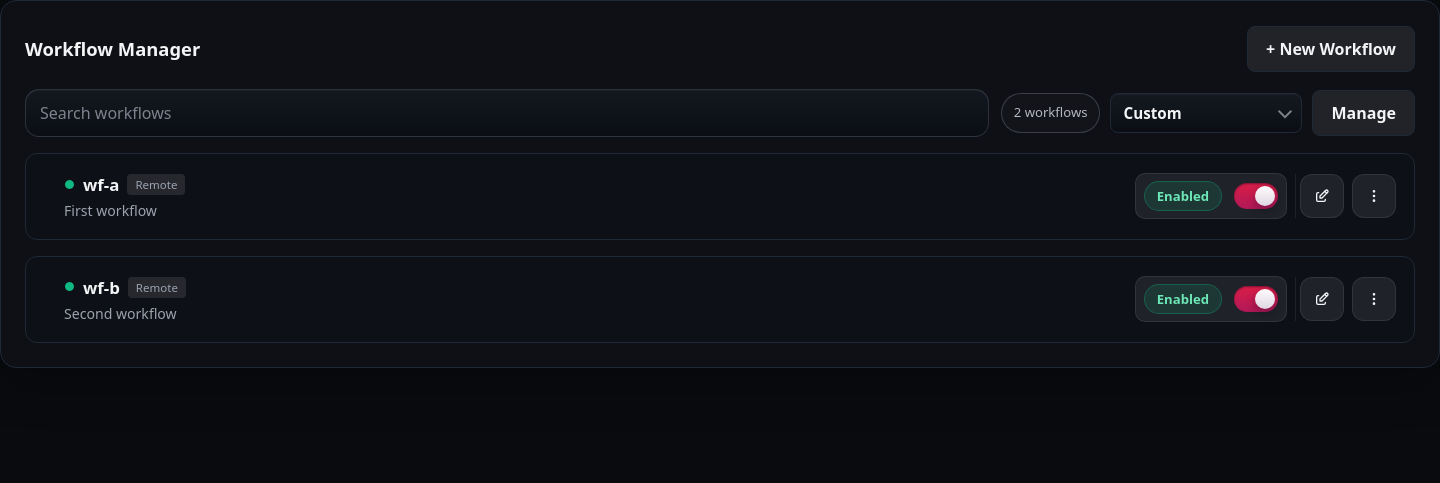
Test case: WorkflowManager › exits batch mode and clears the current selection
Step 1. Click the button "Manage" → {"x": 1364, "y": 113}, box [1312,90,1415,136]
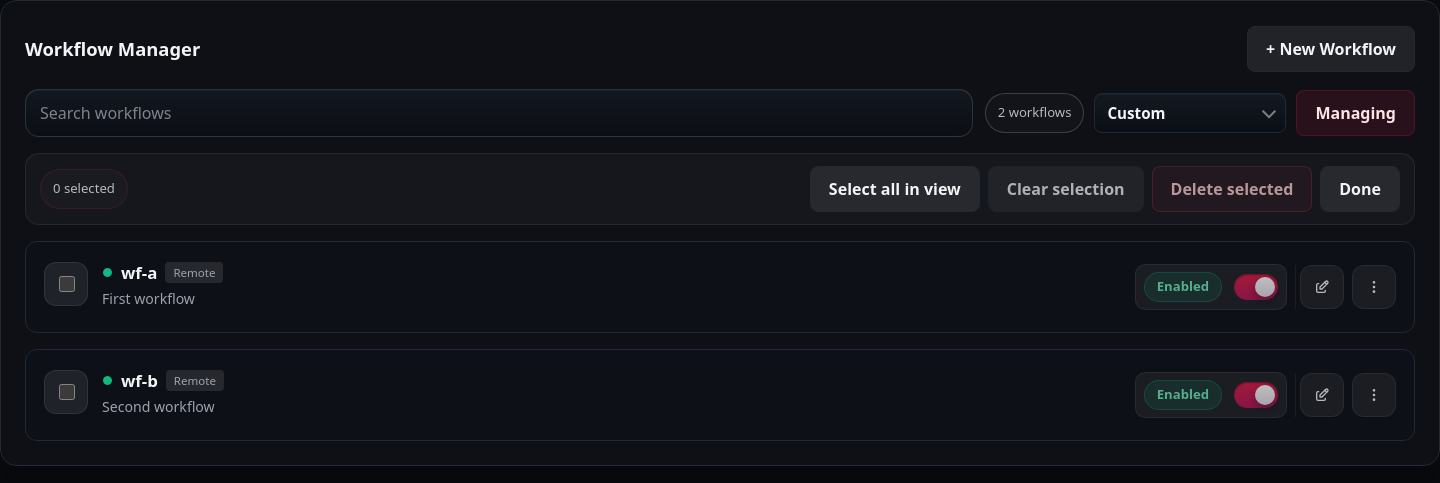
Step 2. Click the checkbox named "Select workflow wf-a" → {"x": 66, "y": 284}, box [58,276,74,292]
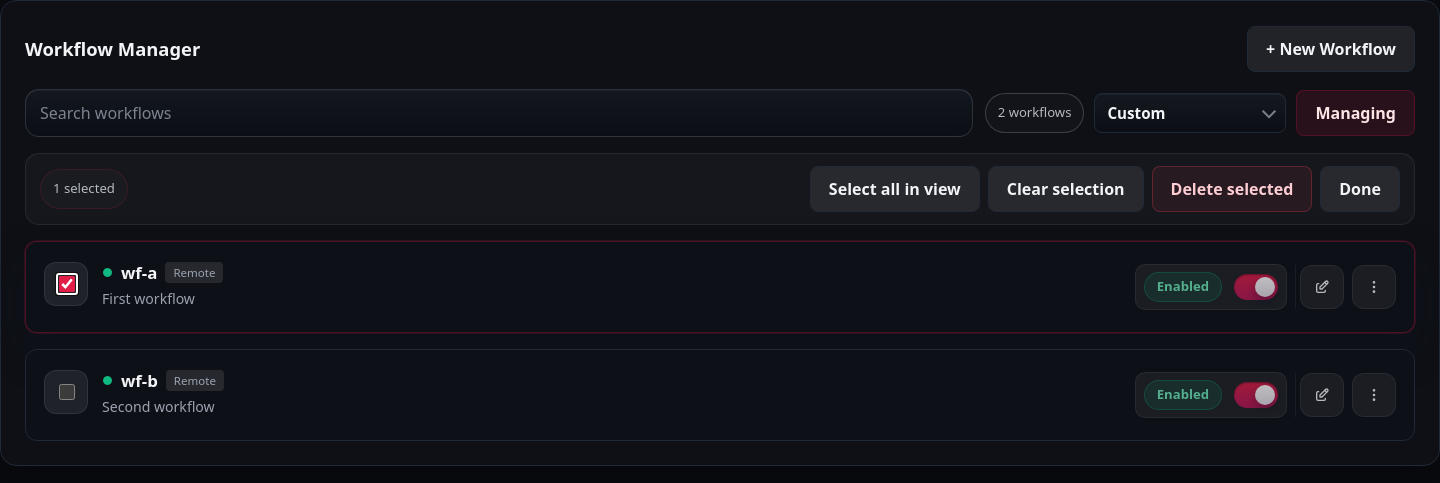
Now the text "1 selected" is shown, box [40,169,128,209]
Step 3. Click the button "Done" → {"x": 1360, "y": 189}, box [1320,166,1400,212]
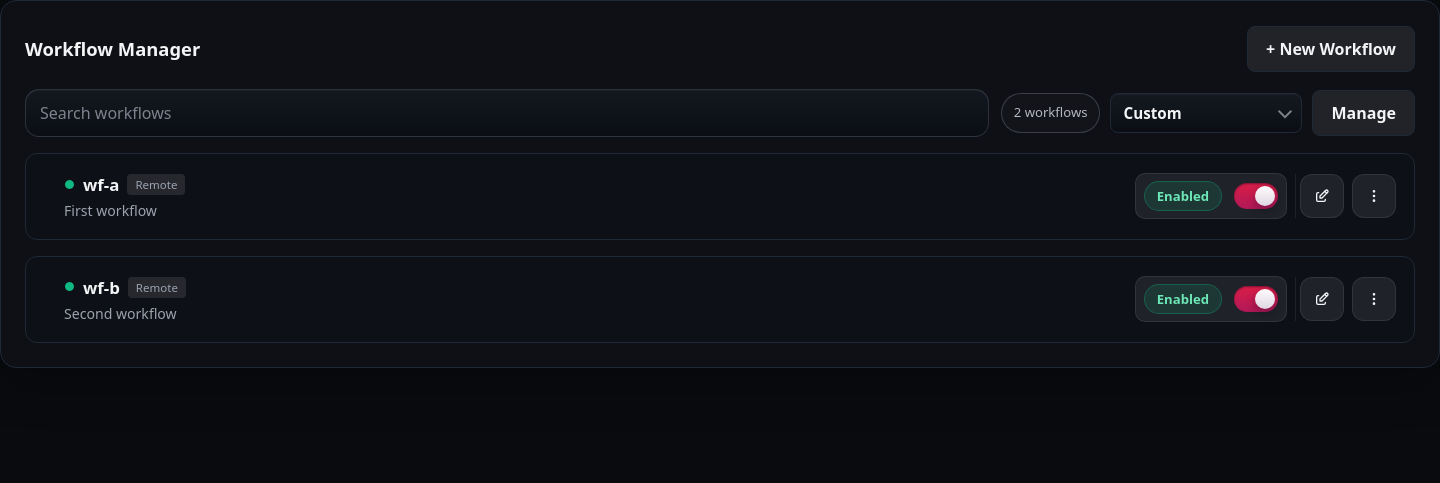
Expected: the checkbox labelled "Select workflow wf-a" is not shown
Now the text "1 selected" is gone
